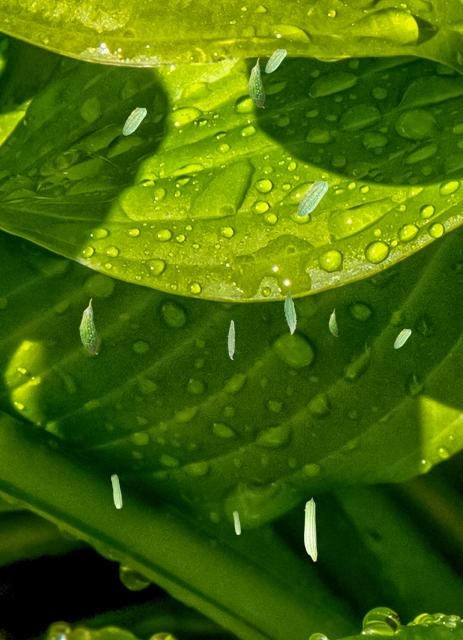ampalaya: (297, 180, 328, 217), (79, 298, 98, 354), (247, 57, 265, 108), (303, 497, 317, 562), (122, 107, 147, 135), (265, 48, 287, 73), (284, 291, 296, 335), (110, 474, 122, 508), (393, 328, 411, 349), (227, 319, 235, 360), (328, 308, 338, 336), (232, 510, 241, 535)
